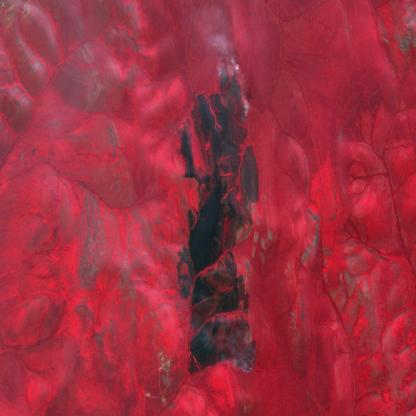fire: (217, 52, 242, 78), (240, 339, 257, 375), (239, 94, 251, 128)
